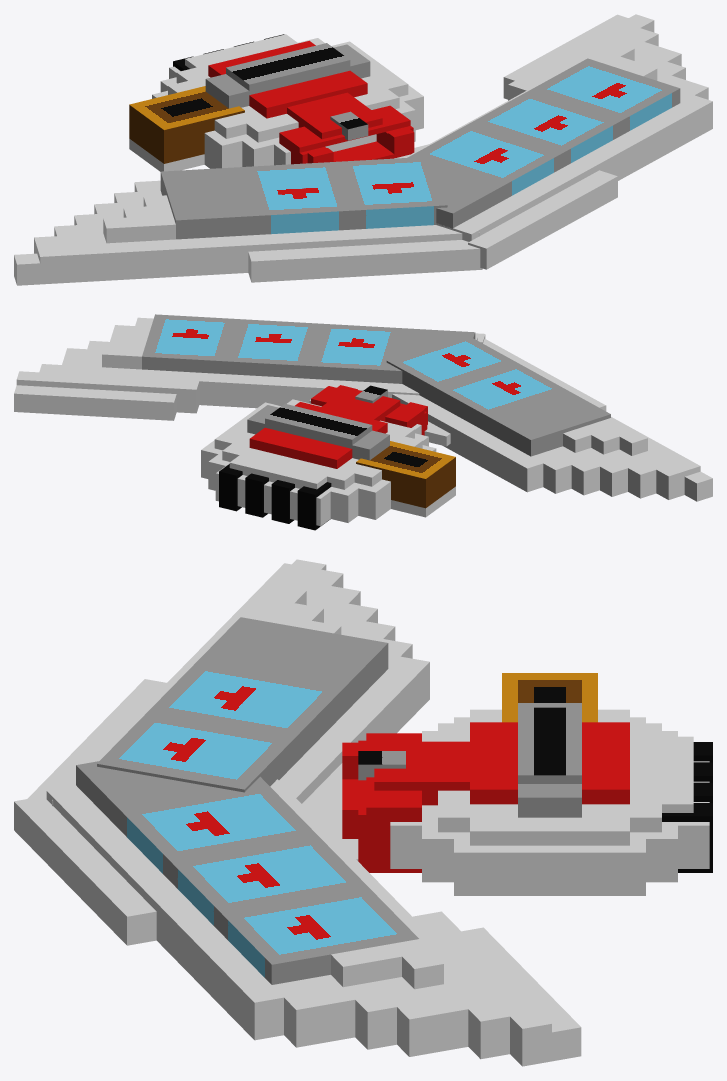
The picture shows the model from 3 angles, top to bottom: view 1: azimuth 30°, elevation 25°; view 2: azimuth 150°, elevation 25°; view 3: azimuth 270°, elevation 25°; orthographic projection. The views are drawn at different scales.
Parts seen in each view (by area): view 1: 58d3322f-6b28-db0c-c64f-968aa67e0568, 5e50a271-4c9f-6bc1-36ac-bce9f7362807, 633d5a1d-f09d-defd-792e-dc0c732cf5d8, 9bfa143f-5901-65ac-2f42-643440e8c150, 3632ffeb-7b4c-e363-8dc5-ab53d07a219c, dc0fa700-5aae-83d2-9e79-fe62e7f45f61, 16464de5-55f2-cf7b-8dc6-46635a4335b8, 83c80fa0-939b-c8f8-1d59-1390a790f1ae, cfc74baf-c5ab-5f58-2f04-27d71466a881, 81ea5b71-7704-6abf-8a56-eb820a43a766, 522c5ef3-1901-c208-5a32-5156d907f2cd, b343718a-6c0c-a12c-9c80-7667bf37a9da (+30 smaller); view 2: 58d3322f-6b28-db0c-c64f-968aa67e0568, 5e50a271-4c9f-6bc1-36ac-bce9f7362807, 633d5a1d-f09d-defd-792e-dc0c732cf5d8, 3632ffeb-7b4c-e363-8dc5-ab53d07a219c, 738f29d1-c8c0-2da9-2a3c-70e08abbe013, dc0fa700-5aae-83d2-9e79-fe62e7f45f61, b343718a-6c0c-a12c-9c80-7667bf37a9da, cfc74baf-c5ab-5f58-2f04-27d71466a881, 83c80fa0-939b-c8f8-1d59-1390a790f1ae, 81ea5b71-7704-6abf-8a56-eb820a43a766, 522c5ef3-1901-c208-5a32-5156d907f2cd, 9a83aee5-86f6-3955-8606-e470aa978df7 (+33 smaller); view 3: 58d3322f-6b28-db0c-c64f-968aa67e0568, 5e50a271-4c9f-6bc1-36ac-bce9f7362807, 633d5a1d-f09d-defd-792e-dc0c732cf5d8, 27abe25d-0236-ef50-0eeb-7d9f5f9c301f, 3632ffeb-7b4c-e363-8dc5-ab53d07a219c, 16464de5-55f2-cf7b-8dc6-46635a4335b8, cfc74baf-c5ab-5f58-2f04-27d71466a881, 81ea5b71-7704-6abf-8a56-eb820a43a766, b343718a-6c0c-a12c-9c80-7667bf37a9da, 83c80fa0-939b-c8f8-1d59-1390a790f1ae, 092f9fb7-78e6-d081-c357-b8c3340d514c, 1ce64f8f-45df-ecac-863f-566dbb78944e (+28 smaller).
Boxes of the visible parts, x1,y1,x2,y2 form: 58d3322f-6b28-db0c-c64f-968aa67e0568: (407, 58, 680, 228); 5e50a271-4c9f-6bc1-36ac-bce9f7362807: (160, 156, 447, 239); 633d5a1d-f09d-defd-792e-dc0c732cf5d8: (405, 59, 712, 224); 9bfa143f-5901-65ac-2f42-643440e8c150: (248, 240, 482, 282); 3632ffeb-7b4c-e363-8dc5-ab53d07a219c: (134, 180, 410, 277); dc0fa700-5aae-83d2-9e79-fe62e7f45f61: (129, 86, 244, 163); 16464de5-55f2-cf7b-8dc6-46635a4335b8: (468, 170, 617, 269); 83c80fa0-939b-c8f8-1d59-1390a790f1ae: (226, 43, 350, 94); cfc74baf-c5ab-5f58-2f04-27d71466a881: (208, 40, 367, 118); 81ea5b71-7704-6abf-8a56-eb820a43a766: (176, 38, 399, 142); 522c5ef3-1901-c208-5a32-5156d907f2cd: (74, 212, 132, 281); b343718a-6c0c-a12c-9c80-7667bf37a9da: (508, 14, 654, 100); 58d3322f-6b28-db0c-c64f-968aa67e0568: (142, 314, 475, 383); 5e50a271-4c9f-6bc1-36ac-bce9f7362807: (386, 334, 610, 456); 633d5a1d-f09d-defd-792e-dc0c732cf5d8: (119, 317, 419, 408); 3632ffeb-7b4c-e363-8dc5-ab53d07a219c: (392, 394, 638, 492); 738f29d1-c8c0-2da9-2a3c-70e08abbe013: (14, 385, 176, 420); dc0fa700-5aae-83d2-9e79-fe62e7f45f61: (356, 441, 455, 508); b343718a-6c0c-a12c-9c80-7667bf37a9da: (16, 371, 199, 413); cfc74baf-c5ab-5f58-2f04-27d71466a881: (249, 402, 387, 468); 83c80fa0-939b-c8f8-1d59-1390a790f1ae: (265, 403, 372, 448); 81ea5b71-7704-6abf-8a56-eb820a43a766: (222, 399, 414, 489); 522c5ef3-1901-c208-5a32-5156d907f2cd: (588, 439, 675, 496); 9a83aee5-86f6-3955-8606-e470aa978df7: (229, 455, 326, 489); 58d3322f-6b28-db0c-c64f-968aa67e0568: (76, 761, 418, 984); 5e50a271-4c9f-6bc1-36ac-bce9f7362807: (97, 617, 388, 792); 633d5a1d-f09d-defd-792e-dc0c732cf5d8: (71, 779, 460, 1040); 27abe25d-0236-ef50-0eeb-7d9f5f9c301f: (454, 832, 645, 895); 3632ffeb-7b4c-e363-8dc5-ab53d07a219c: (89, 625, 429, 803); 16464de5-55f2-cf7b-8dc6-46635a4335b8: (14, 796, 156, 945); cfc74baf-c5ab-5f58-2f04-27d71466a881: (470, 722, 629, 804); 81ea5b71-7704-6abf-8a56-eb820a43a766: (438, 723, 661, 832); b343718a-6c0c-a12c-9c80-7667bf37a9da: (412, 911, 551, 1066); 83c80fa0-939b-c8f8-1d59-1390a790f1ae: (518, 707, 581, 783); 092f9fb7-78e6-d081-c357-b8c3340d514c: (284, 966, 472, 1047); 1ce64f8f-45df-ecac-863f-566dbb78944e: (470, 817, 629, 845).
Size of the model in its own units: 35.62 by 3.25 by 21.87.
Materials: 5 (5 with a texture image).
